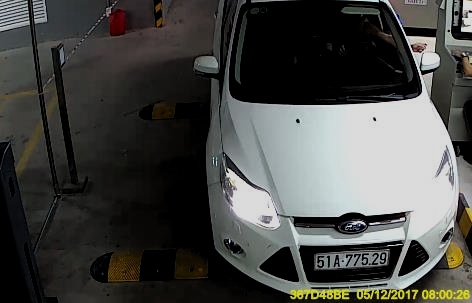plate: (316, 247, 391, 268)
